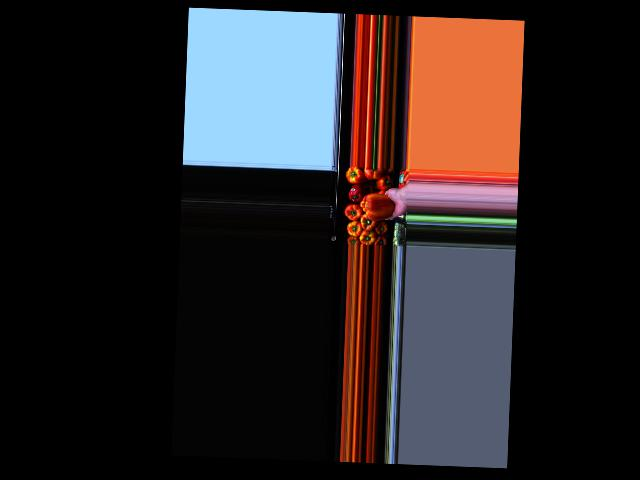bell_pepper: (375, 173, 390, 192)
